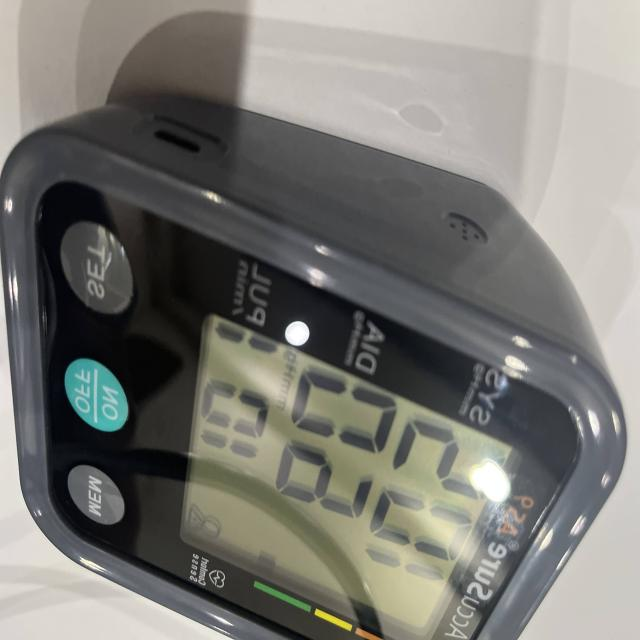bp: (0, 13, 628, 640)
